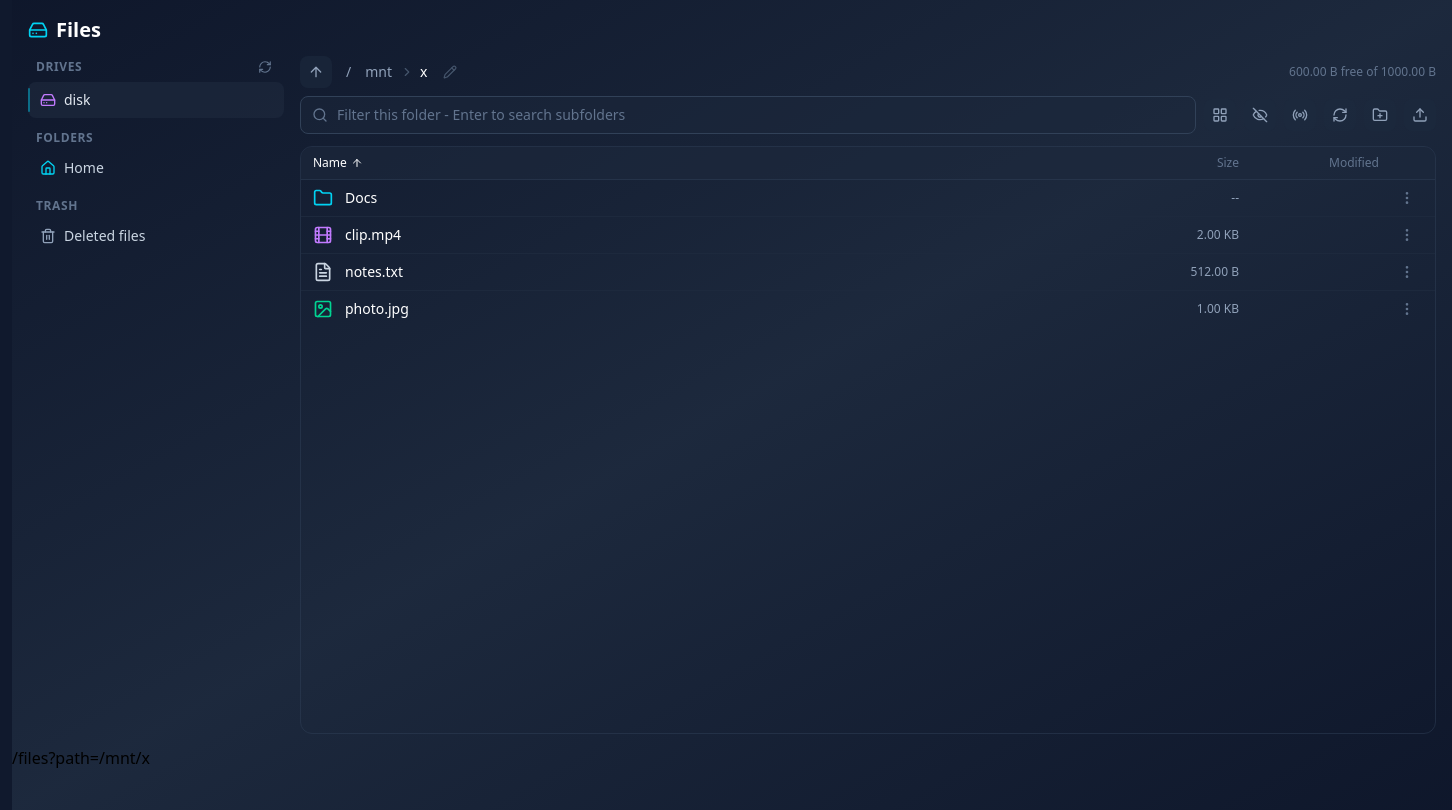
Test: ExplorerPage - navigation › a click on a folder row opens it and the URL follows
Expected: the text "clip.mp4" is shown, [345, 225, 401, 245]
Click the element showing "Docs --".
click(868, 198)  # box [301, 180, 1435, 217]
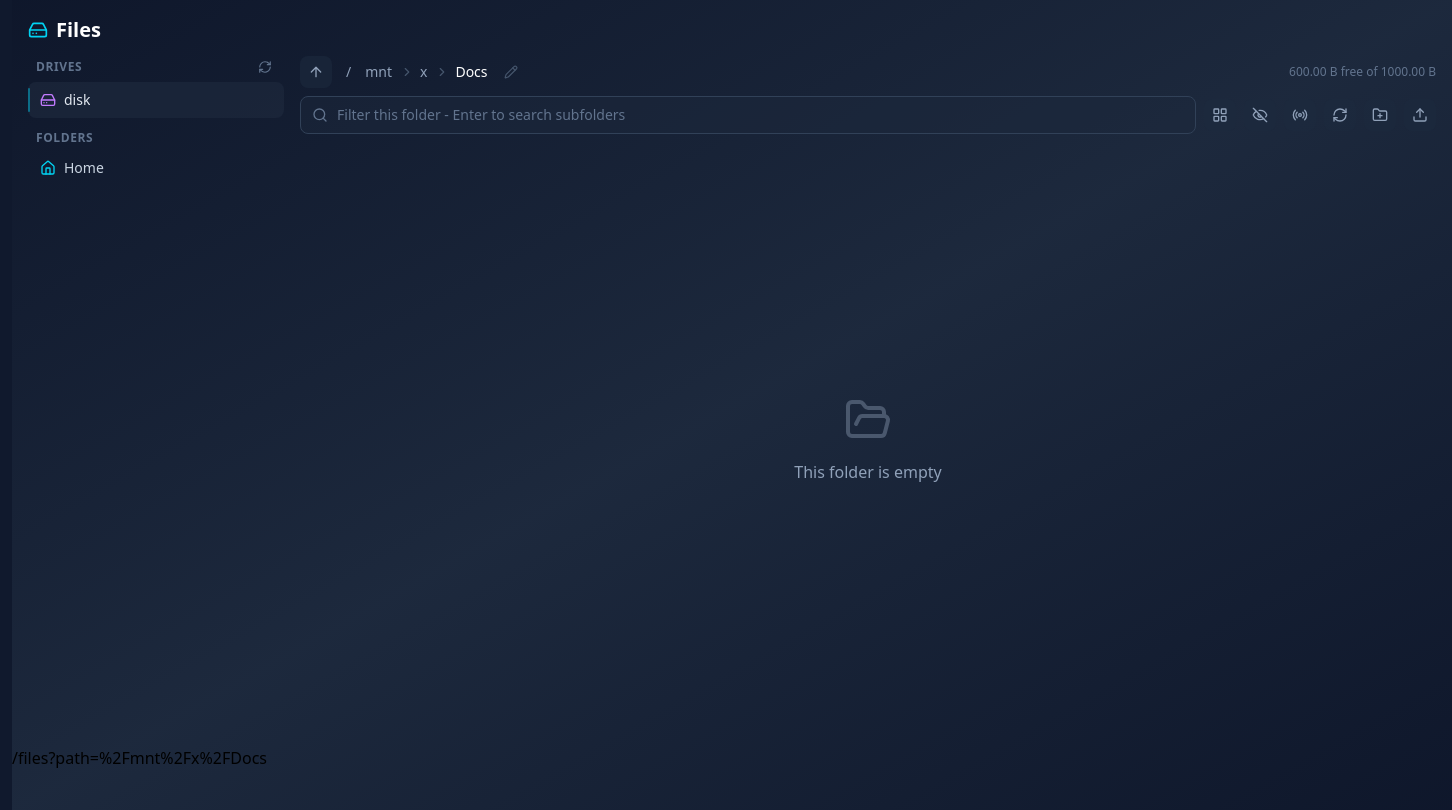
Expected: the text "This folder is empty" is shown, [794, 460, 942, 484]
